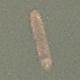ship: (0, 6, 19, 73)
